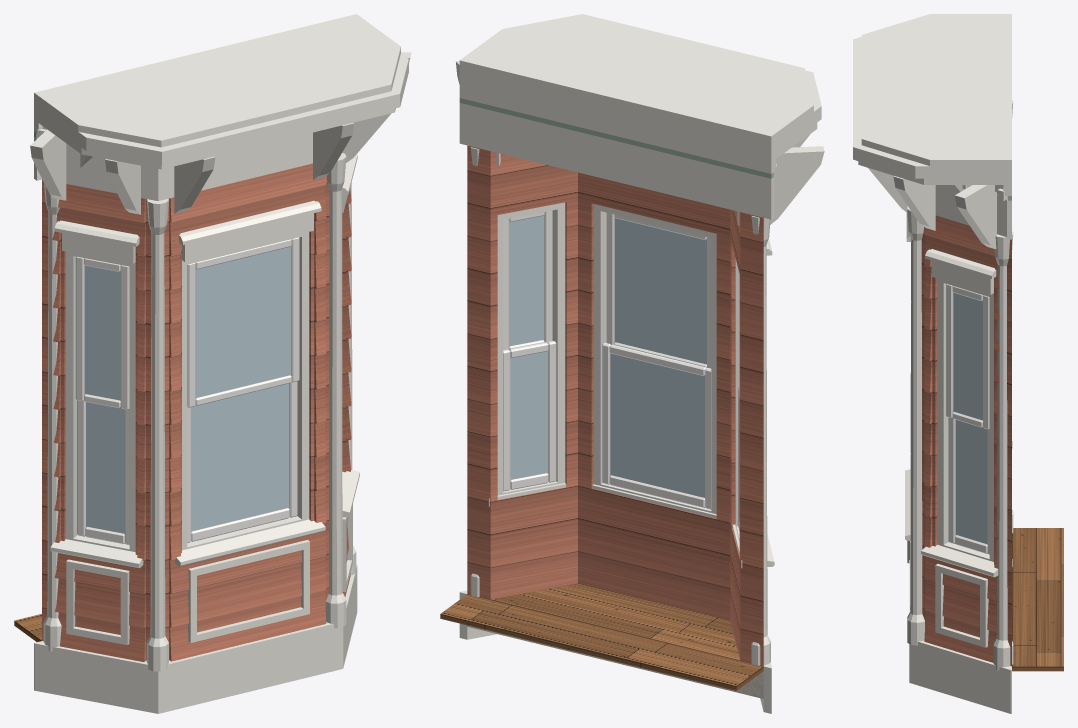
File: bay_u_e.glb
The picture shows the model from 3 angles, left to right: view 1: azimuth 30°, elevation 25°; view 2: azimuth 150°, elevation 25°; view 3: azimuth 270°, elevation 25°; orthographic projection. The views are drawn at different scales.
Parts seen in each view (by area): view 1: bay_u_e_trim, bay_u_e_siding_e, bay_u_e_glass, bay_u_e_sash, bay_u_e_frame; view 2: bay_u_e_siding_e, bay_u_e_trim, bay_u_e_glass, bay_u_e_floor, bay_u_e_frame, bay_u_e_sash, bay_u_e_acc_e, bay_u_e_plaster; view 3: bay_u_e_trim, bay_u_e_siding_e, bay_u_e_floor, bay_u_e_glass, bay_u_e_frame, bay_u_e_sash.
Boxes of the visible parts, box(x1,y1,x2,y2) form: bay_u_e_trim: box(30, 14, 411, 713); bay_u_e_siding_e: box(42, 152, 351, 661); bay_u_e_glass: box(84, 246, 290, 533); bay_u_e_sash: box(75, 237, 299, 545); bay_u_e_frame: box(65, 213, 342, 551); bay_u_e_siding_e: box(467, 145, 763, 666); bay_u_e_trim: box(455, 14, 824, 713); bay_u_e_glass: box(509, 215, 706, 497); bay_u_e_floor: box(440, 583, 763, 690); bay_u_e_frame: box(497, 202, 739, 540); bay_u_e_sash: box(503, 210, 739, 530); bay_u_e_acc_e: box(459, 98, 773, 178); bay_u_e_plaster: box(467, 625, 763, 698); bay_u_e_trim: box(853, 14, 1013, 713); bay_u_e_siding_e: box(921, 215, 1011, 666); bay_u_e_floor: box(1012, 528, 1063, 671); bay_u_e_glass: box(953, 292, 987, 544); bay_u_e_frame: box(937, 278, 993, 561); bay_u_e_sash: box(946, 283, 989, 554).
Size of the model in its own units: 2.37 by 3.54 by 1.22.
8 materials, 3 textured.
